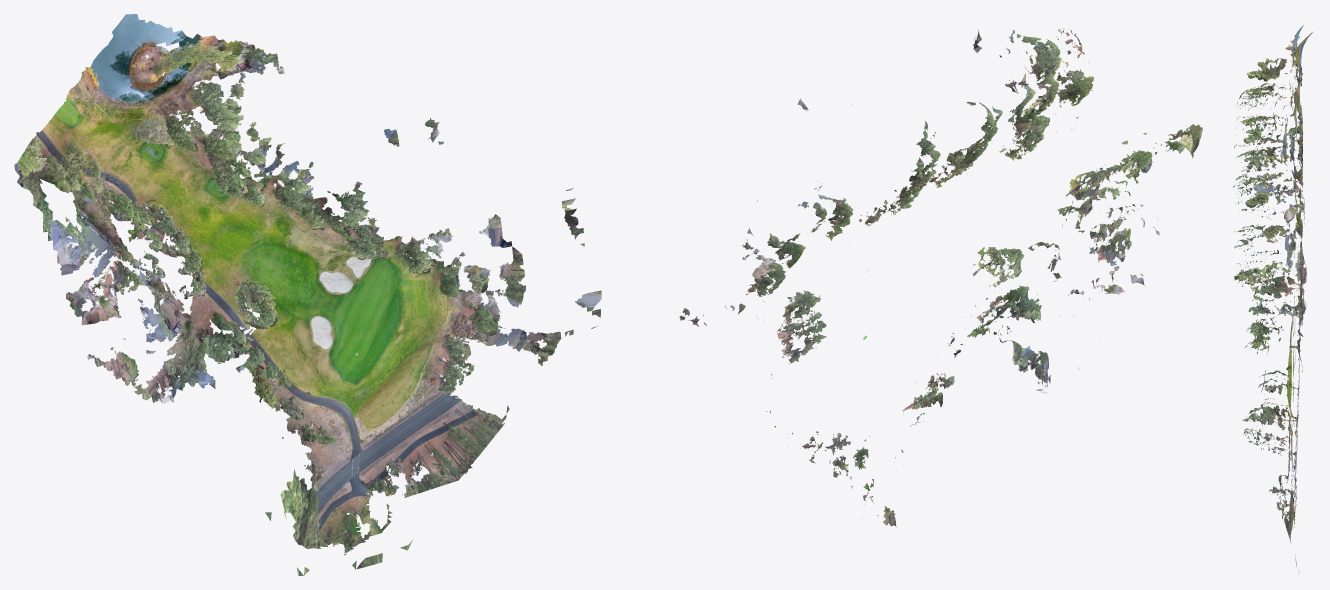
3 views of the same model, side by side, from view 1: azimuth 30°, elevation 25°; view 2: azimuth 150°, elevation 25°; view 3: azimuth 270°, elevation 25° (orthographic). The views are drawn at different scales.
Bounding box in the file's own units: 232 × 230 × 38.23.
50 materials, 50 textured.
